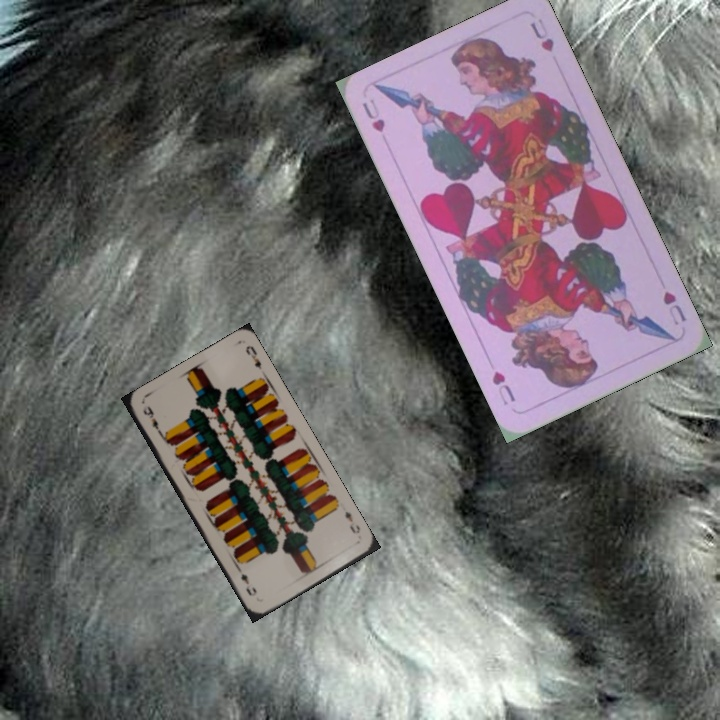E9: (139, 401, 166, 439), (341, 507, 363, 536)
HU: (358, 94, 388, 136), (659, 287, 689, 328)
